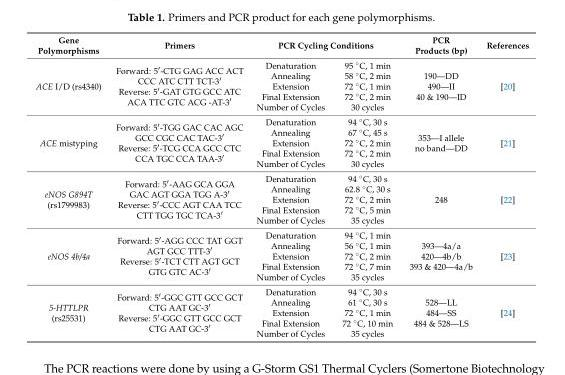table: (35, 34, 528, 338)
table column: (107, 34, 249, 338), (249, 34, 332, 338), (400, 34, 478, 338), (35, 34, 107, 338), (332, 34, 400, 338), (478, 34, 528, 338)
table column header: (35, 34, 528, 113)
table row: (35, 113, 528, 170), (35, 170, 528, 227), (35, 57, 528, 113), (35, 227, 528, 283), (35, 283, 528, 338), (35, 34, 528, 57)
table spanning cell: (107, 34, 249, 113), (400, 34, 478, 113), (35, 34, 107, 113), (478, 34, 528, 113), (249, 34, 400, 57)
